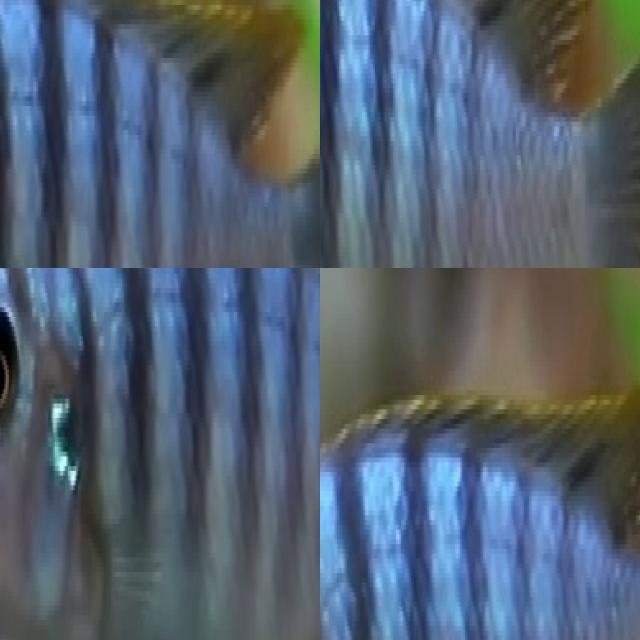fish: (0, 268, 320, 640), (320, 327, 640, 640), (0, 0, 320, 268), (320, 0, 640, 268)
